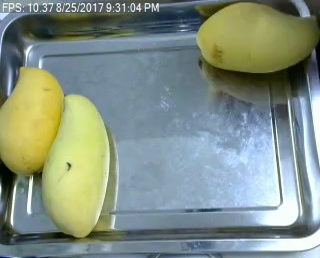Mango: (40, 93, 110, 239), (194, 4, 320, 73), (0, 67, 64, 178)
